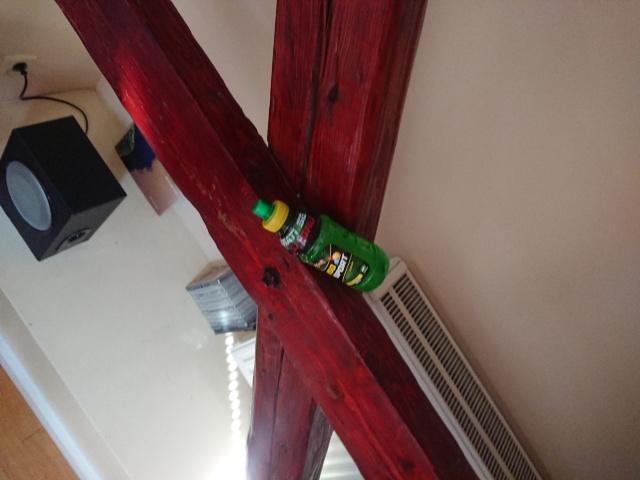Vindi Iso Sport Lemon-Grapefruit 500mL: (249, 195, 392, 295)
